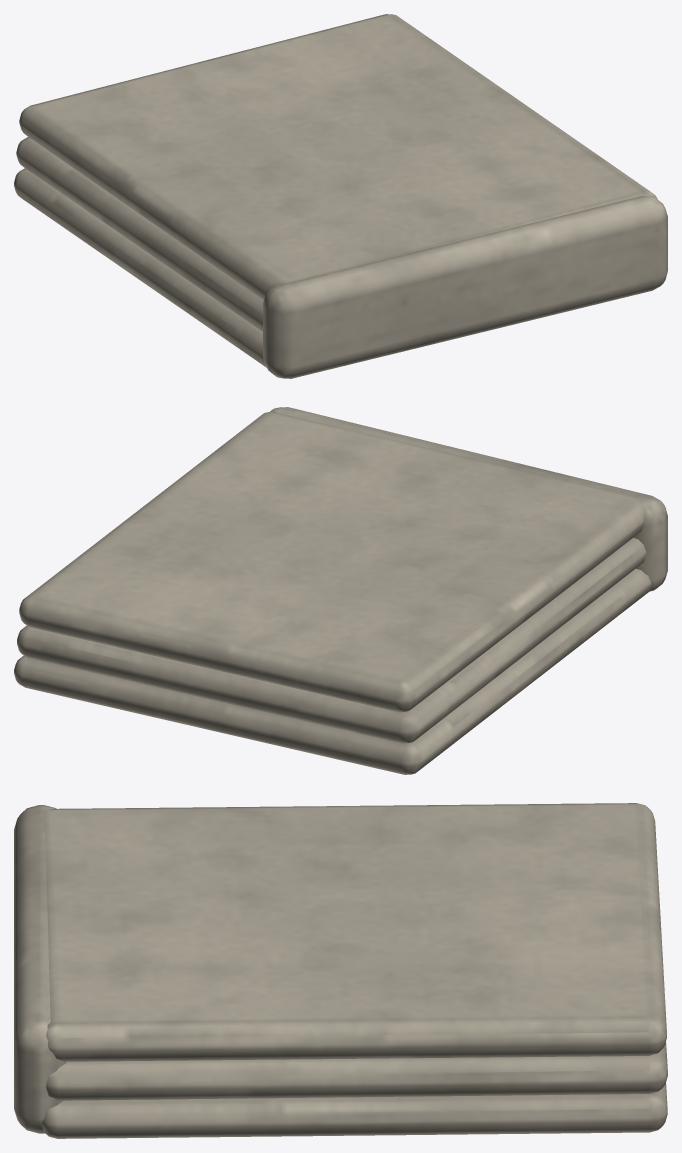
File: ciuch_zlozony.glb
3 views of the same model, one above another, from view 1: azimuth 30°, elevation 25°; view 2: azimuth 150°, elevation 25°; view 3: azimuth 270°, elevation 25° (orthographic). The views are drawn at different scales.
Parts seen in each view (by area): view 1: TintTkanina; view 2: TintTkanina; view 3: TintTkanina.
Part boxes in pixels (left/top/right/bottom): TintTkanina: left=14, top=14, right=667, bottom=378; TintTkanina: left=14, top=407, right=667, bottom=774; TintTkanina: left=14, top=803, right=667, bottom=1138.
Size of the model in its own units: 0.3081 by 0.066 by 0.3537.
Materials: 1 (1 with a texture image).
